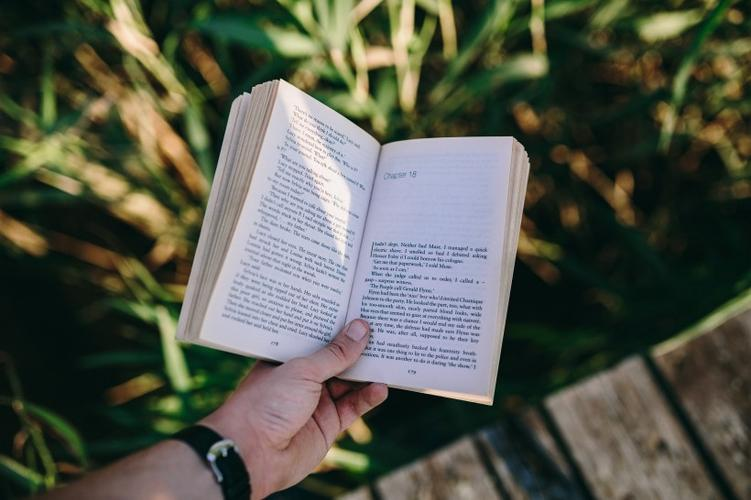no-phone: (172, 105, 537, 496)
